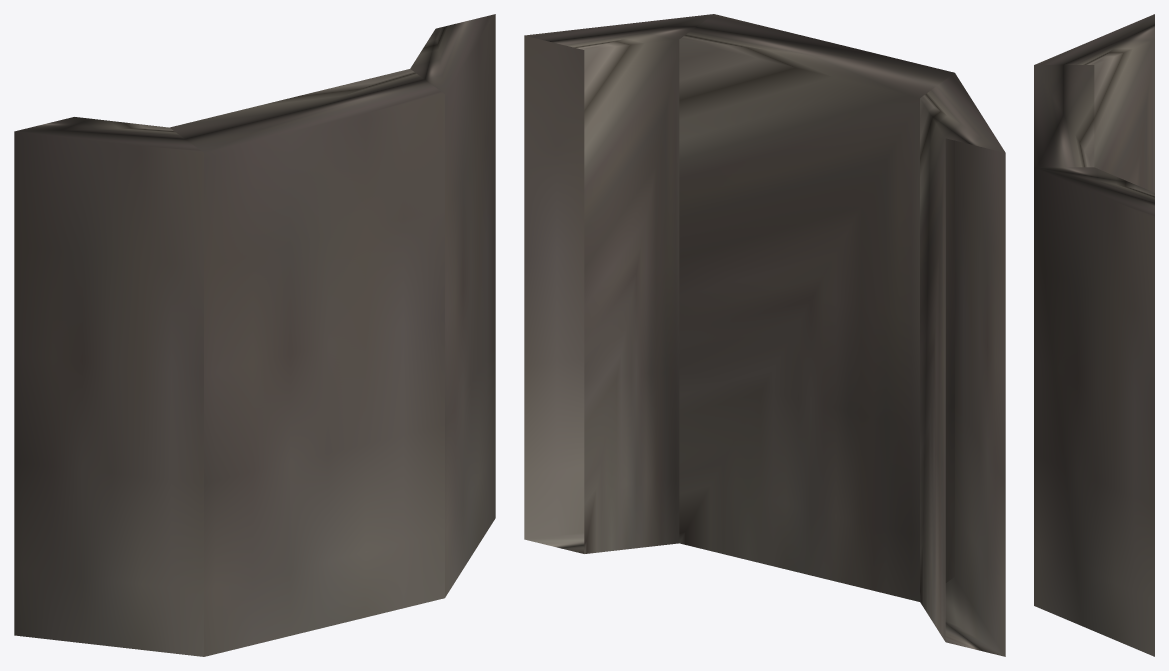
The model's file is towerblock_wall2.glb.
The picture shows the model from 3 angles, left to right: view 1: azimuth 30°, elevation 25°; view 2: azimuth 150°, elevation 25°; view 3: azimuth 270°, elevation 25°; orthographic projection. The views are drawn at different scales.
Visible parts, largest first — view 1: towerblock_wall2; view 2: towerblock_wall2; view 3: towerblock_wall2.
Boxes of the visible parts, <box> form: towerblock_wall2: <box>14,14,495,656</box>; towerblock_wall2: <box>524,14,1005,656</box>; towerblock_wall2: <box>1034,14,1154,656</box>.
Bounding box in the file's own units: 8 × 8 × 2.
Materials: 1 (1 with a texture image).
